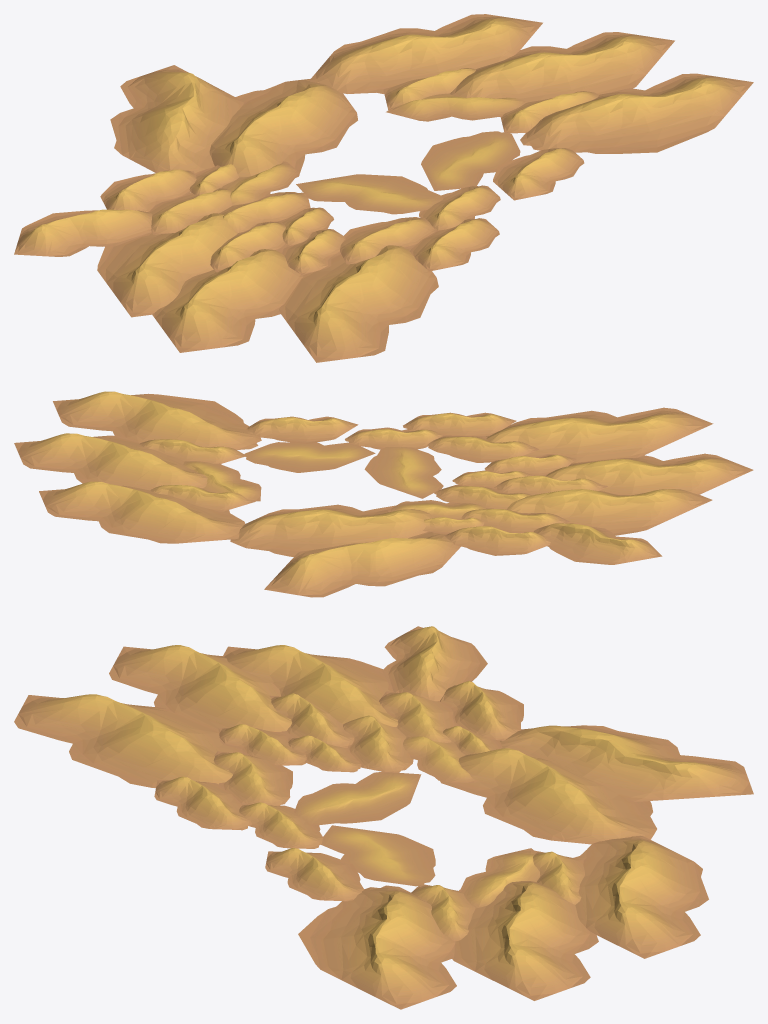
3 renders of one model, top to bottom at view 1: azimuth 30°, elevation 25°; view 2: azimuth 150°, elevation 25°; view 3: azimuth 270°, elevation 25°, orthographic. The views are drawn at different scales.
Visible parts, largest first — view 1: SandduneLow1 (6), SandduneLow1 (18), SandduneLow1 (16), SandduneLow1 (19), SandduneLow1 (15), SandduneLow1 (17), SandduneLow1 (7), SandduneLow1 (14), SandduneLow1 (9), SandduneLow1 (23), SandduneLow1 (24), SandduneLow1 (25) (+14 smaller); view 2: SandduneLow1 (18), SandduneLow1 (16), SandduneLow1 (6), SandduneLow1 (19), SandduneLow1 (15), SandduneLow1 (17), SandduneLow1 (14), SandduneLow1 (7), SandduneLow1 (9), SandduneLow1 (23), SandduneLow1 (24), SandduneLow1 (25) (+14 smaller); view 3: SandduneLow1 (18), SandduneLow1 (6), SandduneLow1 (16), SandduneLow1 (15), SandduneLow1 (17), SandduneLow1 (19), SandduneLow1 (7), SandduneLow1 (14), SandduneLow1 (9), SandduneLow1 (23), SandduneLow1 (24), SandduneLow1 (25) (+14 smaller).
Boxes of the visible parts, box(x1,y1,x2,y2) form: SandduneLow1 (6): box(279, 245, 438, 362); SandduneLow1 (18): box(520, 73, 753, 153); SandduneLow1 (16): box(309, 14, 542, 93); SandduneLow1 (19): box(110, 65, 244, 172); SandduneLow1 (15): box(209, 79, 357, 177); SandduneLow1 (17): box(450, 32, 674, 102); SandduneLow1 (7): box(152, 249, 303, 352); SandduneLow1 (14): box(97, 213, 237, 317); SandduneLow1 (9): box(14, 209, 152, 256); SandduneLow1 (23): box(421, 131, 520, 190); SandduneLow1 (24): box(296, 174, 443, 214); SandduneLow1 (25): box(493, 148, 584, 200); SandduneLow1 (18): box(53, 391, 261, 449); SandduneLow1 (16): box(39, 481, 245, 543); SandduneLow1 (6): box(486, 407, 713, 463); SandduneLow1 (19): box(264, 531, 460, 597); SandduneLow1 (15): box(230, 504, 434, 556); SandduneLow1 (17): box(14, 433, 207, 490); SandduneLow1 (14): box(507, 489, 712, 535); SandduneLow1 (7): box(546, 453, 753, 495); SandduneLow1 (9): box(533, 523, 662, 564); SandduneLow1 (23): box(244, 441, 375, 472); SandduneLow1 (24): box(364, 447, 443, 498); SandduneLow1 (25): box(246, 416, 358, 443); SandduneLow1 (18): box(298, 885, 456, 1009); SandduneLow1 (6): box(14, 694, 243, 788); SandduneLow1 (16): box(573, 835, 708, 958); SandduneLow1 (15): box(440, 748, 656, 844); SandduneLow1 (17): box(452, 881, 598, 1000); SandduneLow1 (19): box(500, 725, 753, 801); SandduneLow1 (7): box(109, 645, 291, 732); SandduneLow1 (14): box(223, 645, 398, 726); SandduneLow1 (9): box(382, 626, 487, 701); SandduneLow1 (23): box(321, 825, 435, 886); SandduneLow1 (24): box(294, 771, 421, 825); SandduneLow1 (25): box(265, 848, 363, 901).
Size of the model in its own units: 622 by 21.58 by 507.
Materials: 1 (1 with a texture image).
